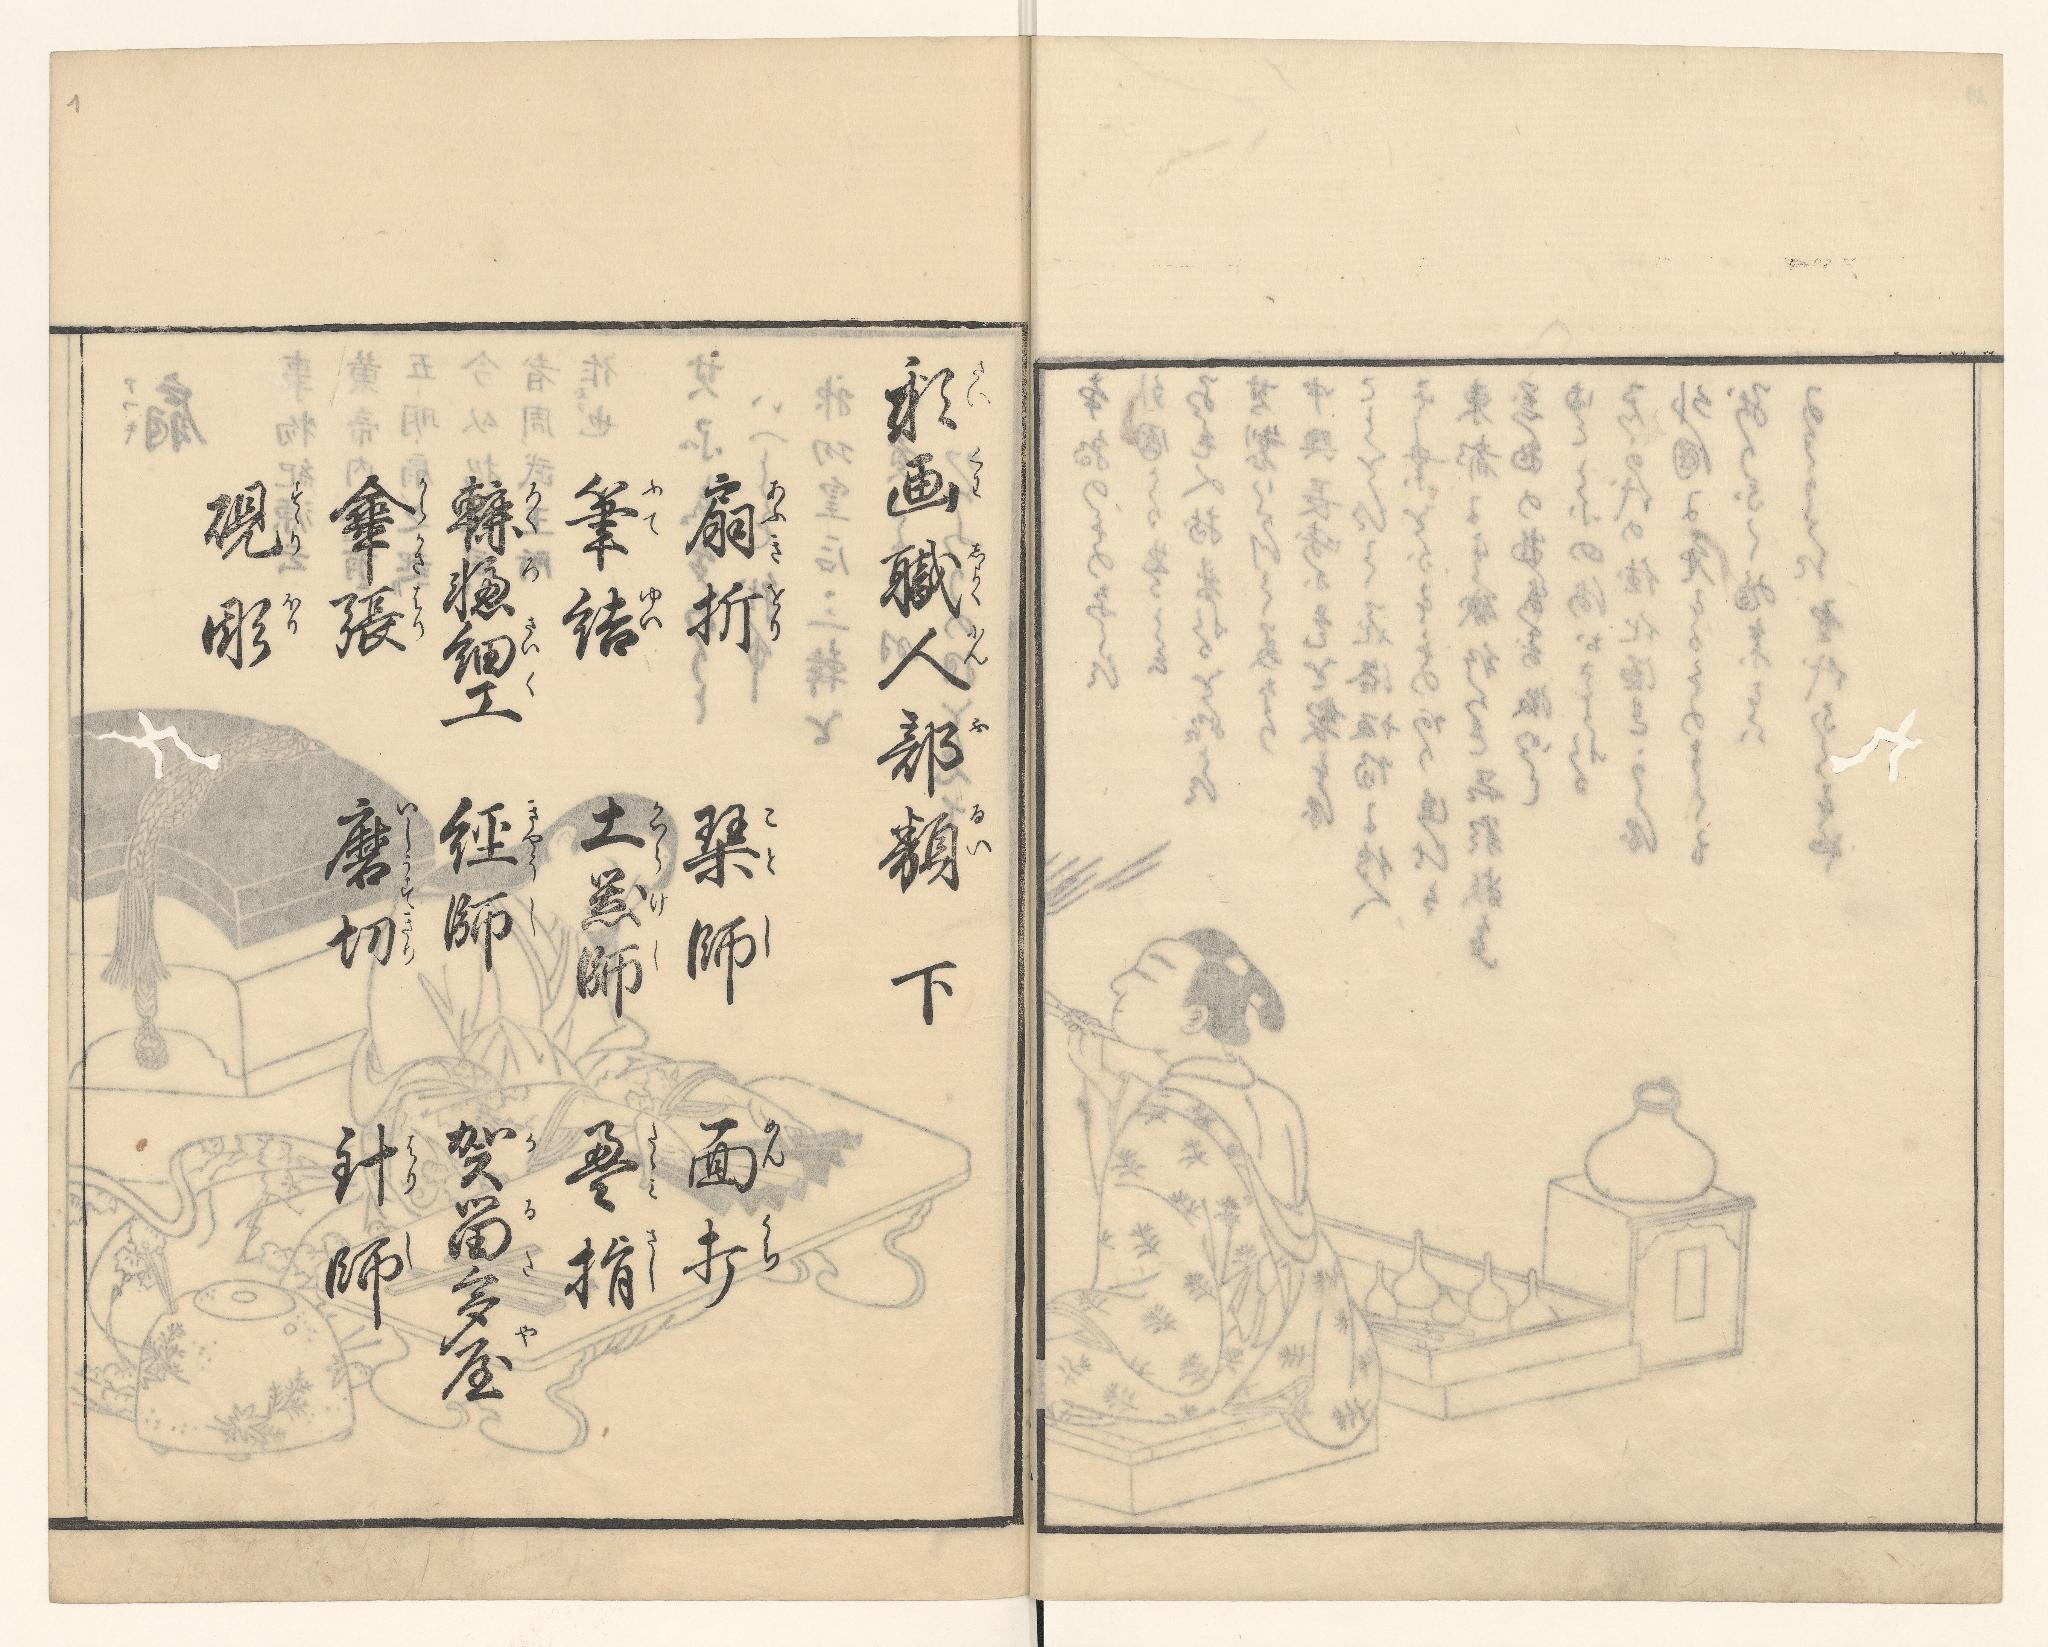MainZone-Character: (422, 613, 548, 741), (319, 792, 423, 914), (433, 1244, 546, 1356), (328, 469, 433, 587), (195, 576, 316, 677), (312, 1229, 422, 1339), (875, 798, 1000, 894), (875, 353, 1001, 445), (869, 704, 996, 795), (674, 1208, 786, 1311), (432, 1319, 549, 1413), (561, 1114, 669, 1217), (556, 580, 677, 671), (203, 471, 314, 568), (438, 785, 549, 882), (563, 467, 664, 571), (684, 798, 791, 896), (687, 472, 795, 570), (561, 1222, 662, 1324), (679, 904, 781, 1005), (682, 1106, 791, 1200), (870, 531, 995, 613), (321, 583, 435, 672), (867, 622, 993, 702), (319, 1119, 427, 1210), (874, 444, 996, 519), (438, 886, 548, 970), (566, 934, 670, 1017), (438, 1193, 551, 1267), (318, 906, 425, 983), (444, 472, 543, 551), (438, 1119, 544, 1193), (689, 580, 790, 657), (440, 551, 544, 624), (576, 790, 665, 864), (568, 866, 669, 929)
MainZone-Ruby: (390, 795, 417, 904), (758, 476, 788, 566), (519, 793, 546, 884), (516, 617, 543, 702), (754, 1210, 788, 1277), (630, 580, 669, 634), (758, 803, 785, 879), (958, 444, 991, 503), (964, 531, 990, 608), (284, 479, 307, 561), (408, 474, 427, 578), (964, 802, 995, 862), (638, 474, 664, 545), (642, 1119, 662, 1207), (961, 360, 993, 413), (638, 1229, 665, 1292), (956, 622, 990, 671), (403, 588, 433, 642), (277, 580, 304, 639), (761, 580, 786, 642), (763, 1111, 788, 1173), (642, 795, 664, 860), (396, 911, 420, 970), (519, 479, 541, 533), (403, 1133, 420, 1202), (756, 913, 778, 961), (519, 891, 539, 939), (517, 1249, 541, 1286), (512, 1323, 544, 1350), (516, 553, 541, 587), (643, 891, 669, 923), (645, 936, 667, 971), (966, 711, 991, 738), (403, 1234, 418, 1276), (519, 1129, 538, 1156), (521, 1198, 539, 1223)
